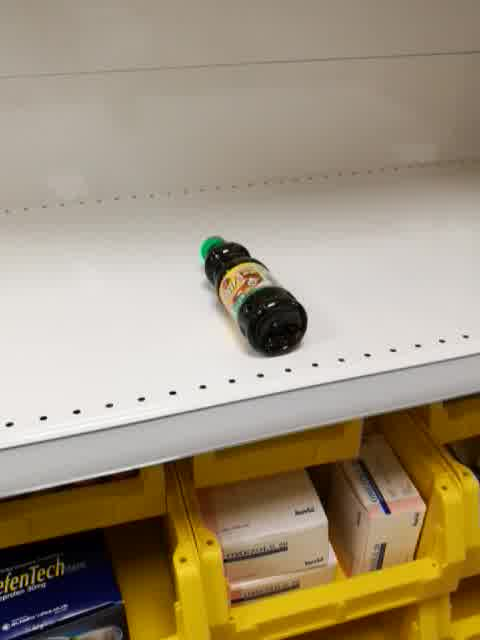cookingoil: (199, 233, 309, 359)
